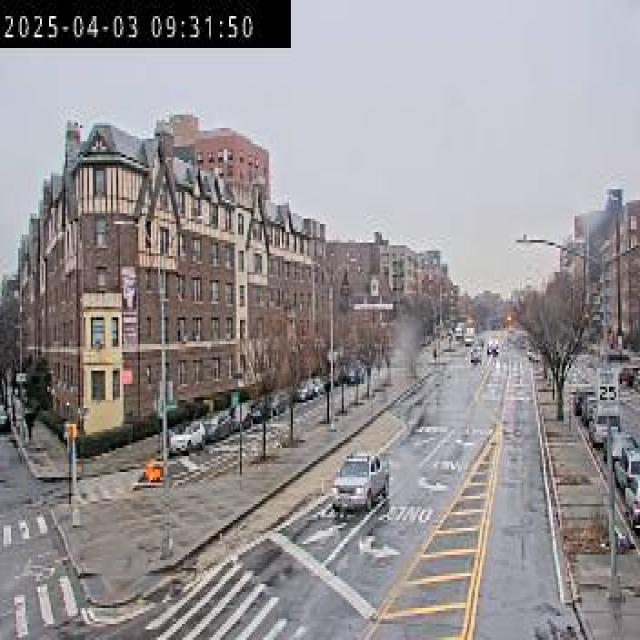parkedCars: (174, 386, 258, 457), (246, 362, 324, 418)
